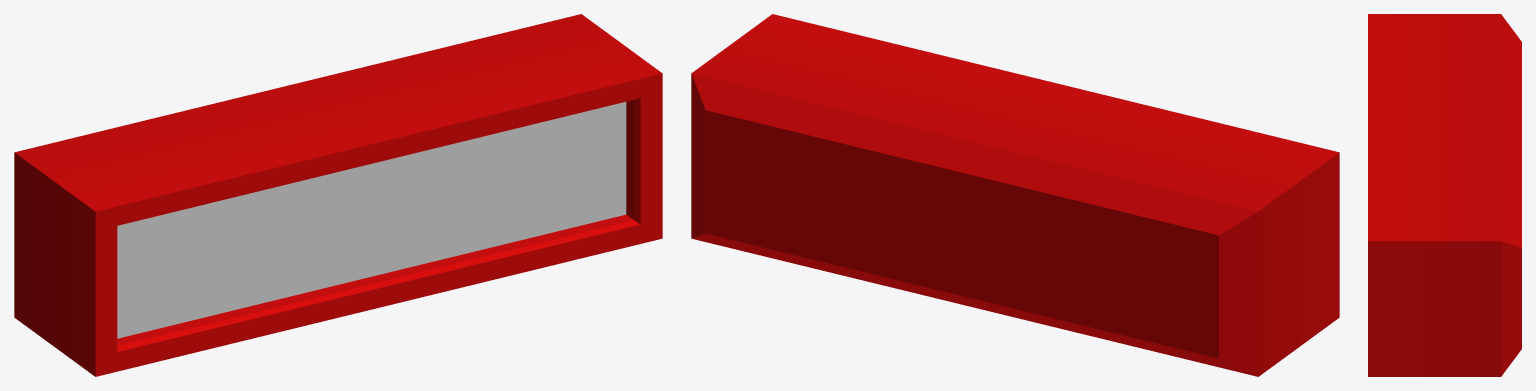
File: ShortLightBar-Flasher-LowPolyNonDMX.fbx
The picture shows the model from 3 angles, left to right: view 1: azimuth 30°, elevation 25°; view 2: azimuth 150°, elevation 25°; view 3: azimuth 270°, elevation 25°; orthographic projection. The views are drawn at different scales.
Visible parts, largest first — view 1: ShortLightBar-Flasher-LowPoly-Non-DMX; view 2: ShortLightBar-Flasher-LowPoly-Non-DMX; view 3: ShortLightBar-Flasher-LowPoly-Non-DMX.
Part boxes in pixels (box(x1,y1,x2,y2)): ShortLightBar-Flasher-LowPoly-Non-DMX: box(14, 14, 662, 376); ShortLightBar-Flasher-LowPoly-Non-DMX: box(691, 14, 1339, 376); ShortLightBar-Flasher-LowPoly-Non-DMX: box(1368, 14, 1521, 376).
Size of the model in its own units: 0.5015 by 0.1397 by 0.1436.
